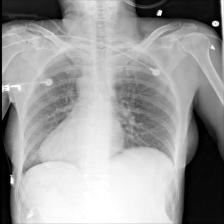normal: (17, 40, 180, 175)
